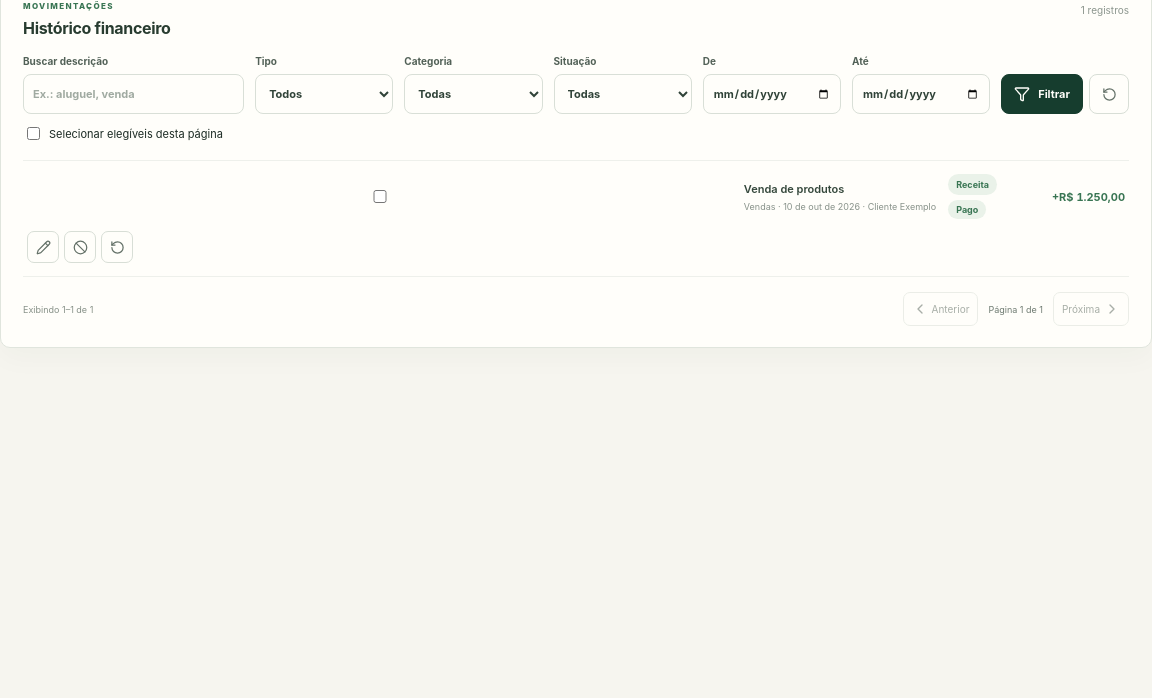
RNF06 — auditoria automatizada de acessibilidade › audita Dashboard, histórico, edição em lote e anulação/reembolso
The width and height of the screenshot is (1152, 698).
Expected: the heading "Histórico financeiro" is shown, [23,18,171,38]
Click the checkbox named "Selecionar Venda de produtos para edição em lote".
click(380, 196)  # box [31,190,729,203]
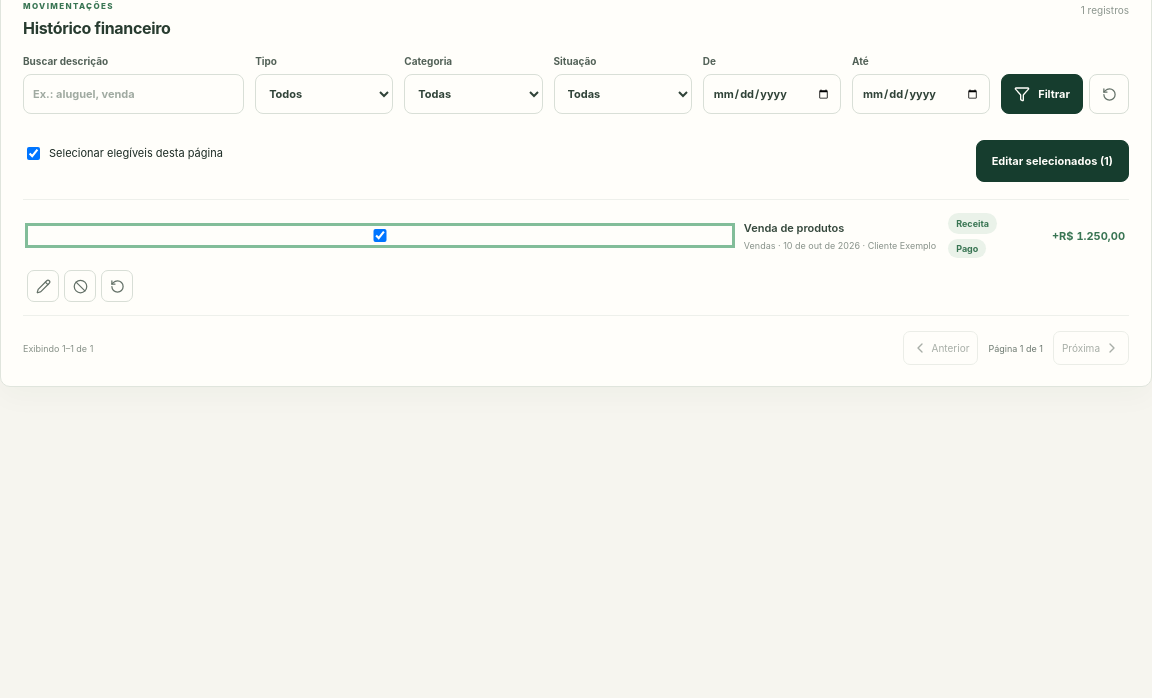
Click the button "Editar selecionados (1)".
click(1052, 161)  # box [976,140,1129,182]
(page scrolled)
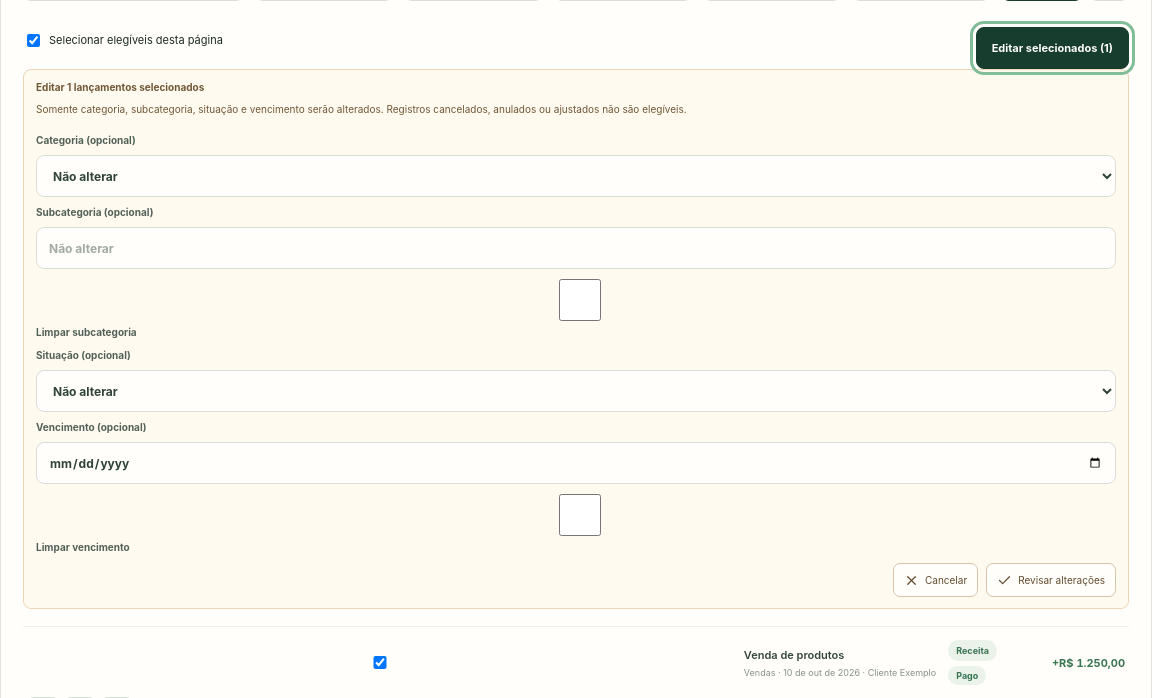
Expected: the element "Editar 1 lançamentos selecionados" is shown
Press Escape
(page scrolled)
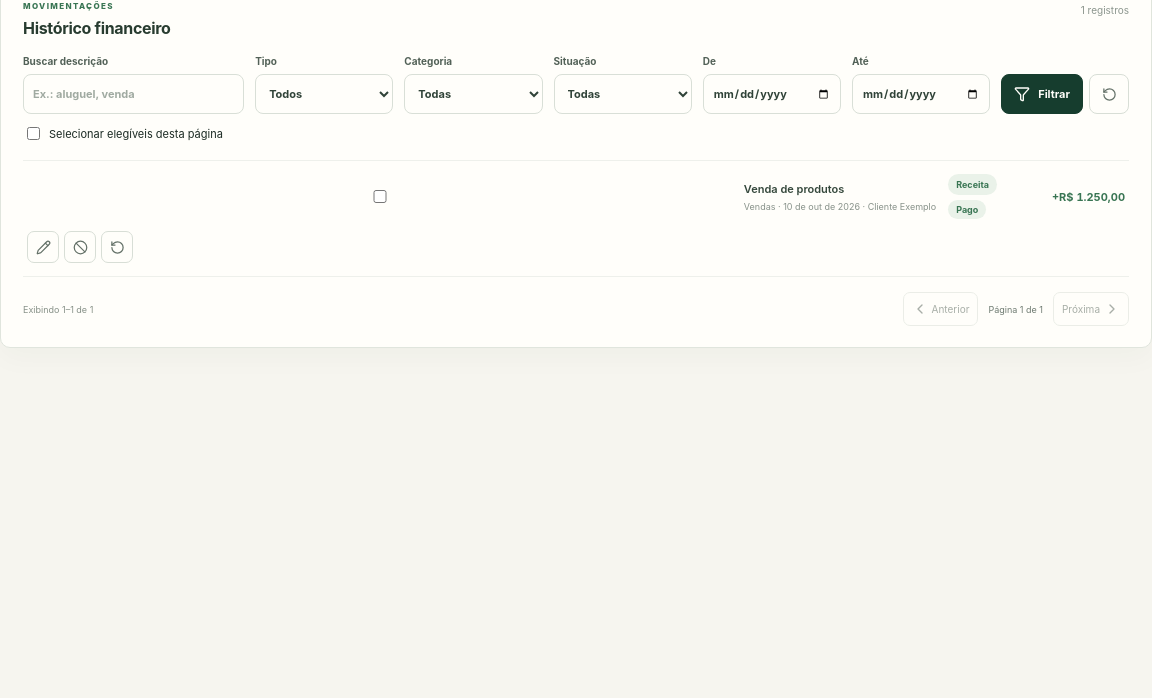
Expected: the text "Editar 1 lançamentos selecionados" is gone
